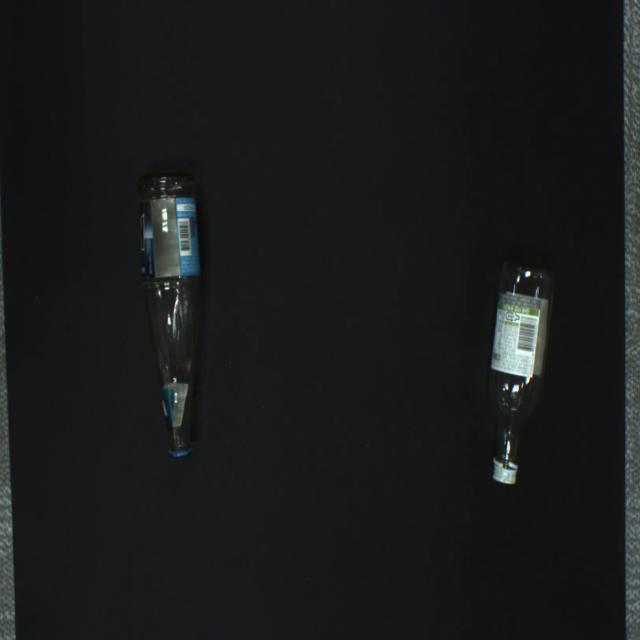beer-bottle: (138, 175, 200, 457)
soju-bottle: (488, 263, 554, 484)
